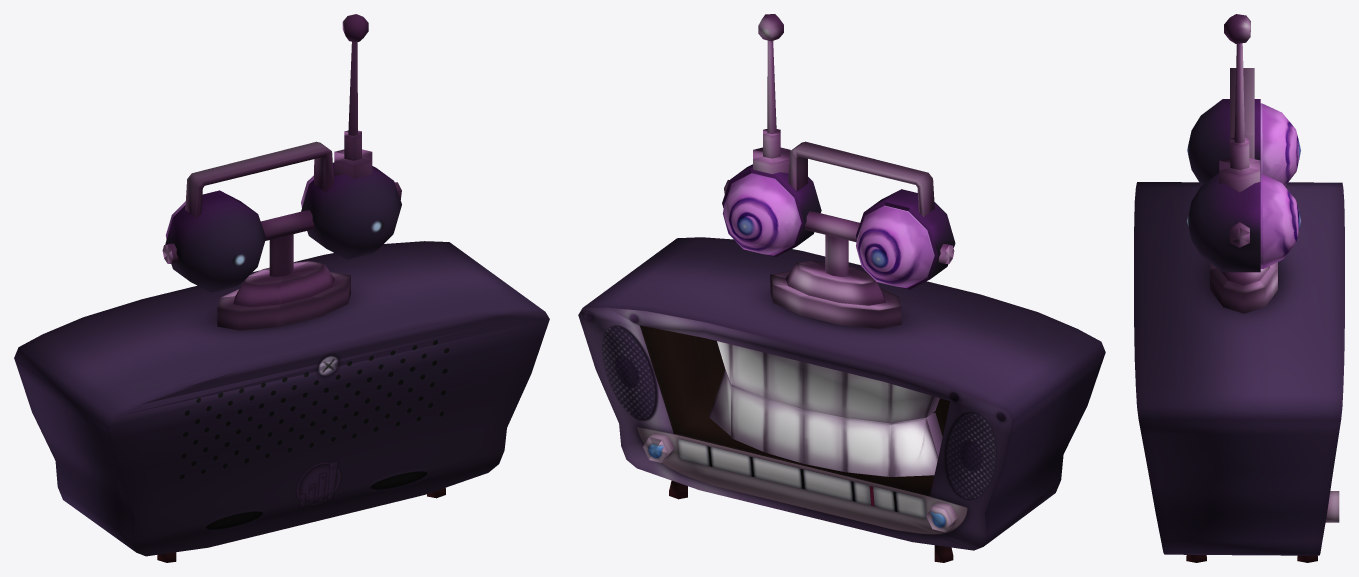
Rendered from dopa.glb.
3 views of the same model, side by side, from view 1: azimuth 30°, elevation 25°; view 2: azimuth 150°, elevation 25°; view 3: azimuth 270°, elevation 25° (orthographic). The views are drawn at different scales.
Visible parts, largest first — view 1: Object.001; view 2: Object.001; view 3: Object.001.
Boxes of the visible parts, x1,y1,x2,y2 form: Object.001: (14,14,549,562); Object.001: (578,14,1105,562); Object.001: (1134,14,1344,562).
Size of the model in its own units: 2.41 by 2.5 by 0.9308.
1 material, 1 textured.
